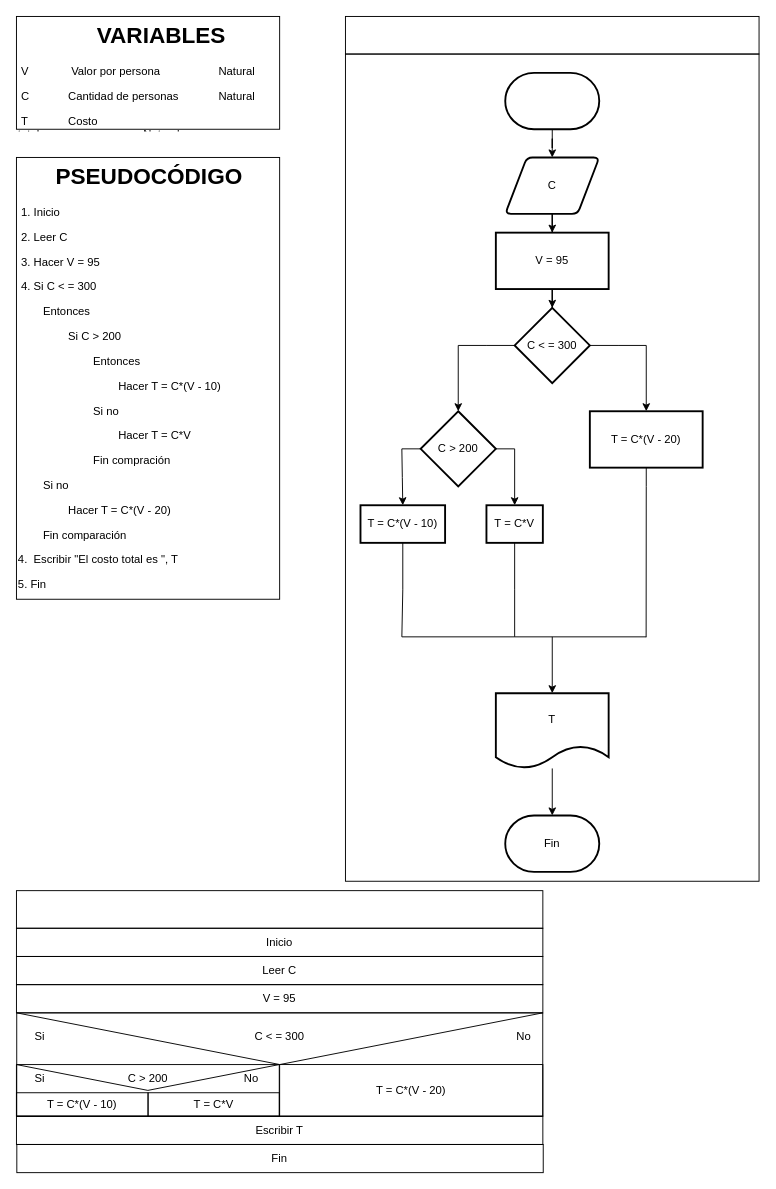
The diagram is 776 pixels wide and 1189 high, and some of its shapes have lost their labels. Here are the shapes that lost their labels. From the top down, the centre of each, then its label:
At point 552,35: "DIAGRAMA DE FLUJO".
At point 552,100: "Inico".
At point 279,909: "DIAGRAMA N/S .".
